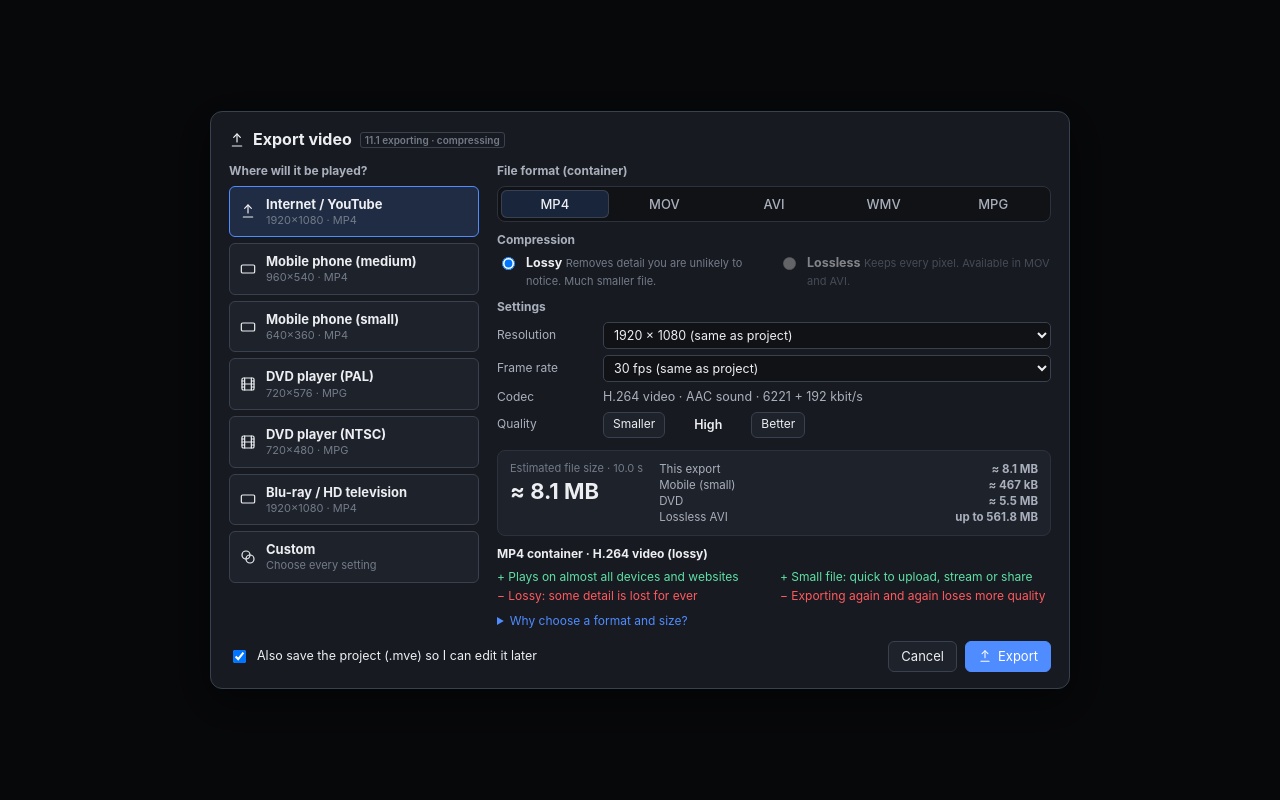
Test: export dialog › Book B Task 11f: the mobile (medium) preset is 960 × 540 for a 16:9 project, and smaller
Step 1. Click the button "Mobile phone (medium) 960×540 · MP4" → (354, 269), box 229,243 -> 479,295
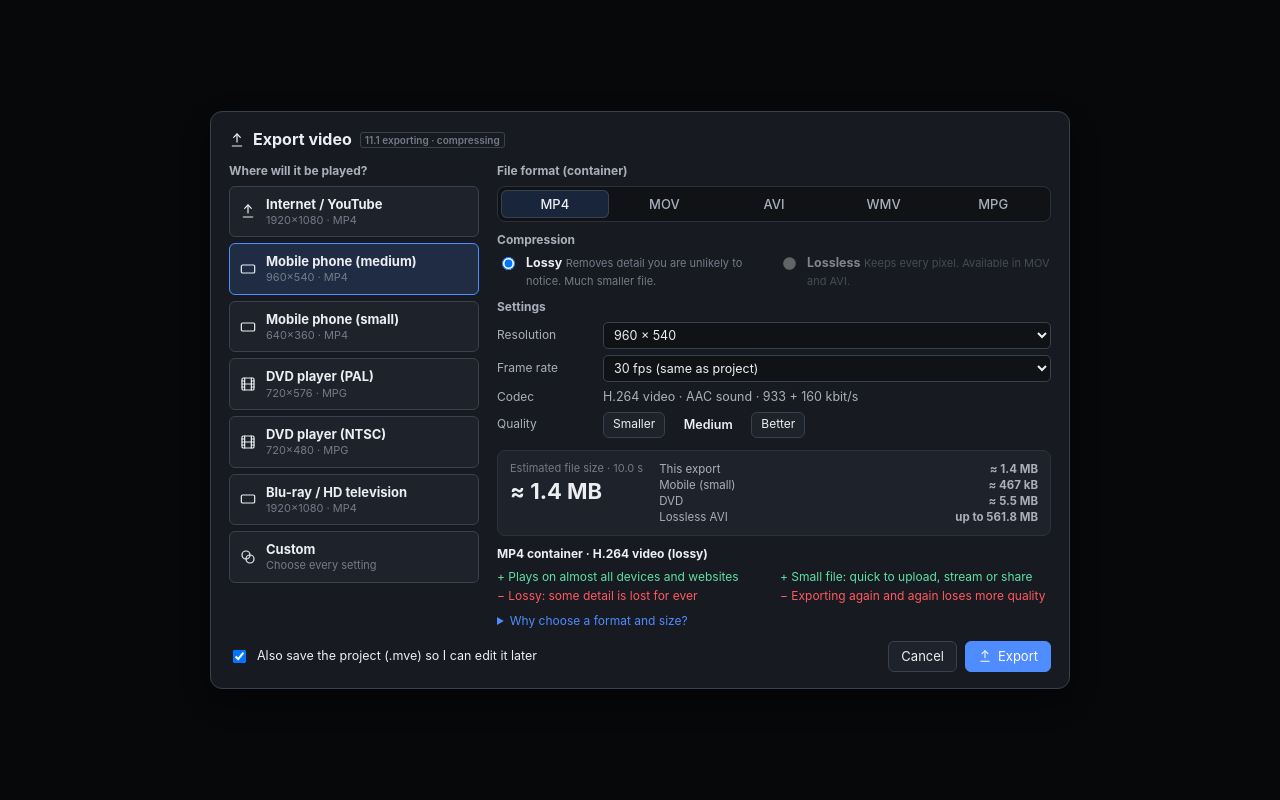
Now the dropdown labelled "Resolution" shows "960 × 540", box 603,322 -> 1051,349
